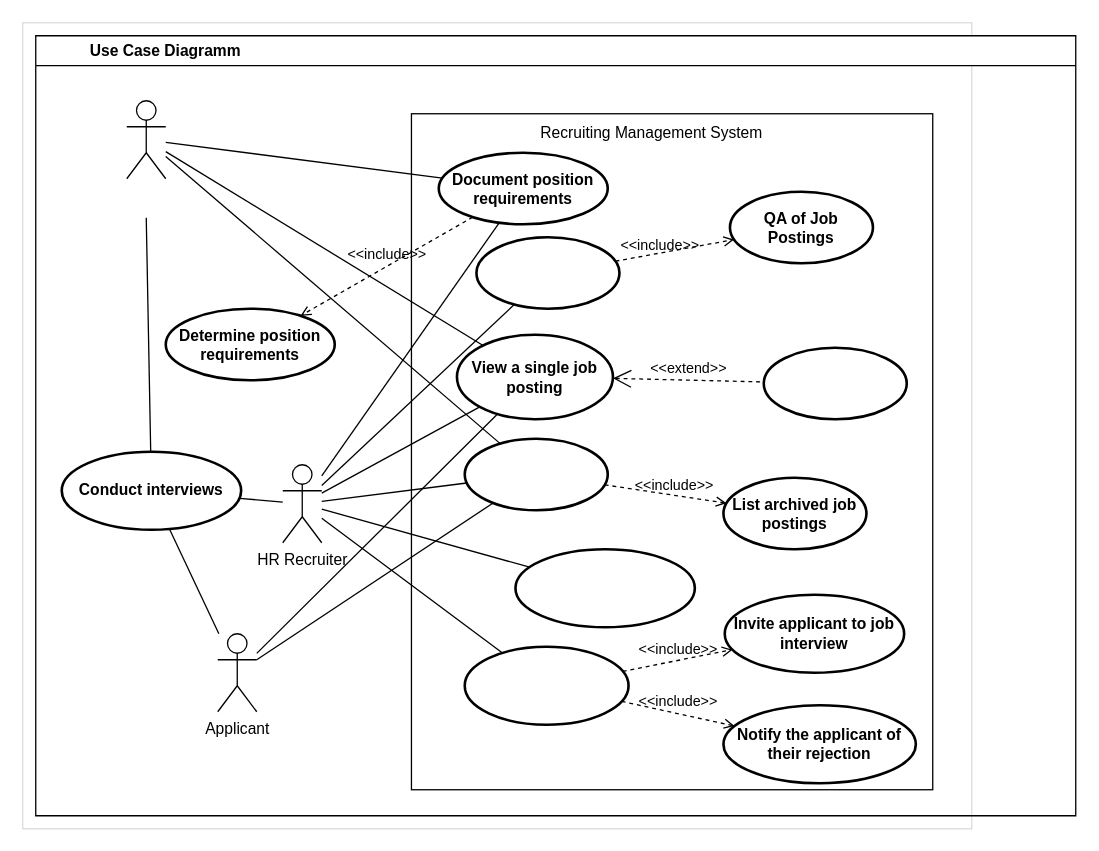
Image size: 1099x851. Some labels were removed from this diagram. Here are the shapes that lost their labels. From the top down, the centre of each, then its label:
At (145,139): "Hiring Manager".
At (547,272): "Schedule job posting".
At (834,383): "Apply to job posting".
At (535,474): "List job postings".
At (605,587): "Archive completed job postings".
At (546,685): "Screen applications".
